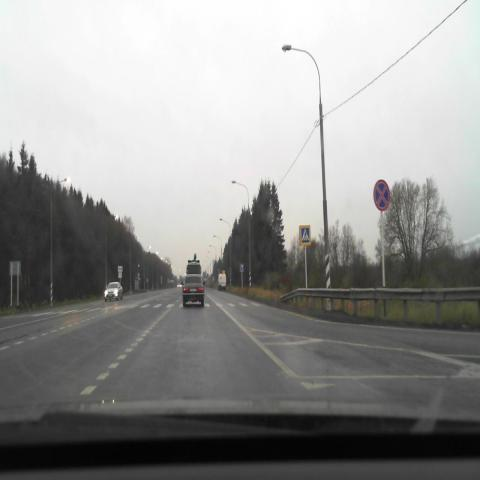3_27: (373, 179, 390, 211)
5_19_1: (299, 225, 311, 245)
